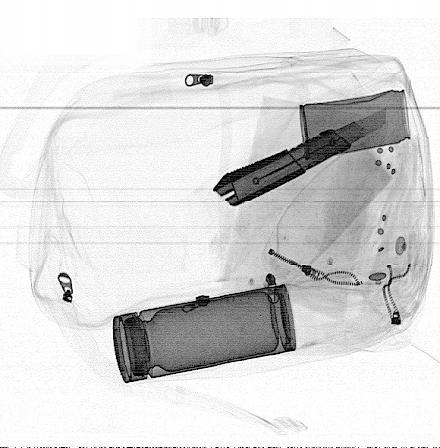Knife: (213, 106, 387, 206)
